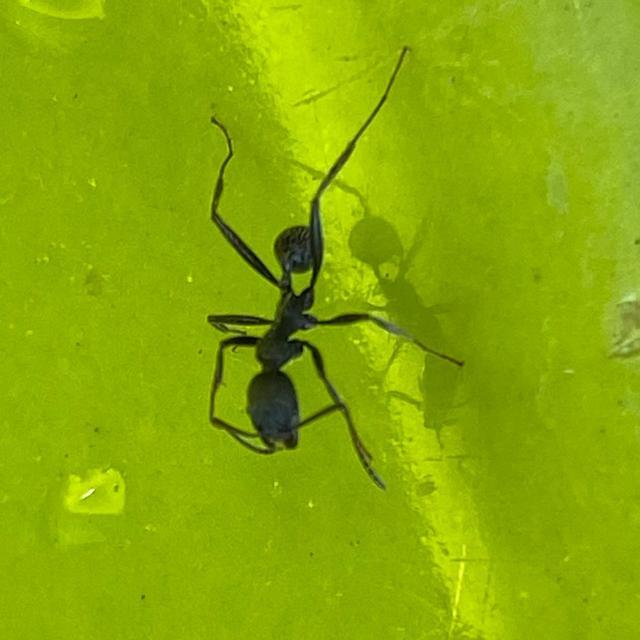Apheanogaster: (188, 168, 390, 487)
